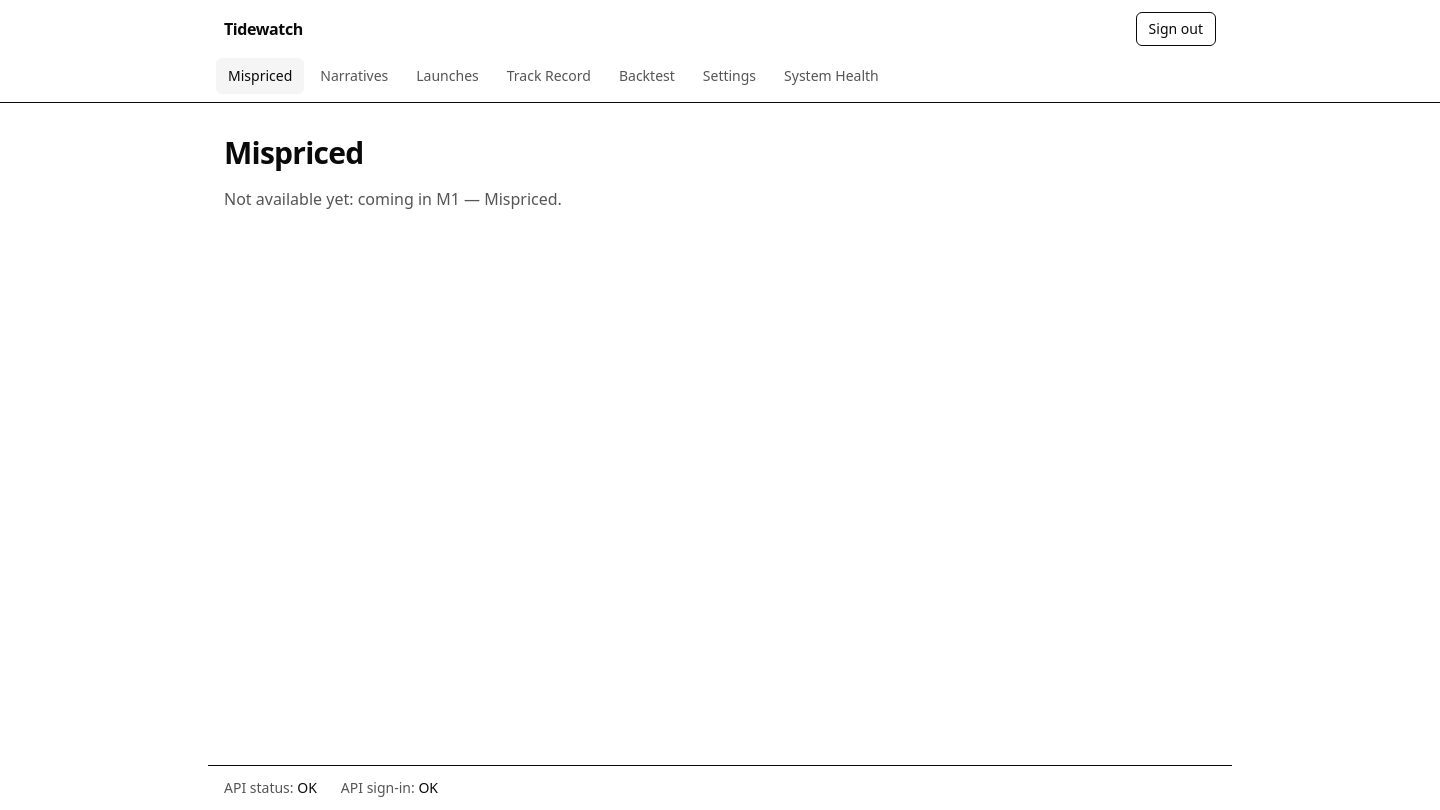
Test: PER-11 dashboard shell › AC2 + AC3: "Track Record" opens at /track-record with its title (and "coming in" until built)
Step 1. Click the link "Track Record" → (549, 76), box [507,66,591,85]
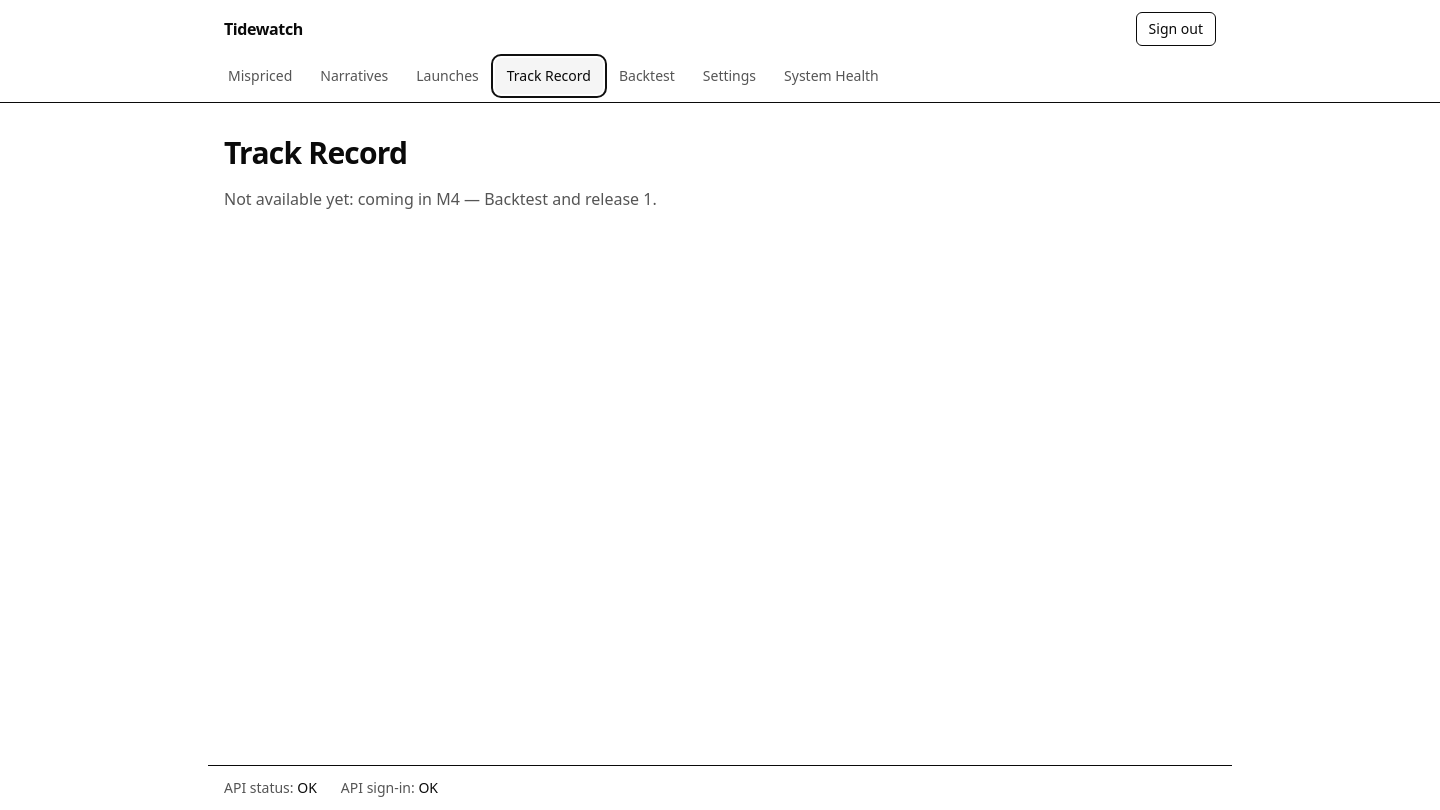
Now the heading "Track Record" is shown, box [224,132,407,173]
